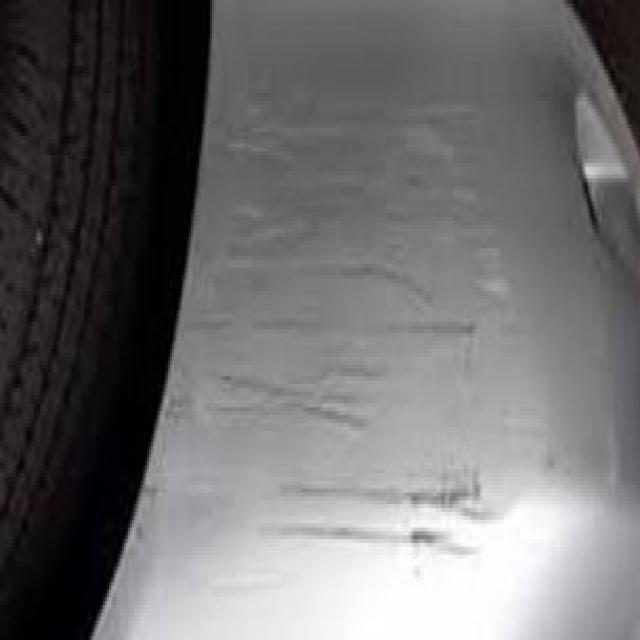scratch: (200, 122, 528, 549)
